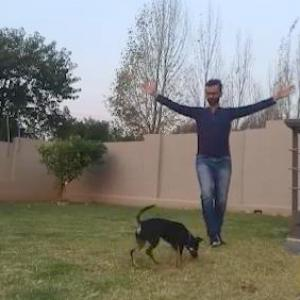takeoff: (136, 67, 299, 255)
